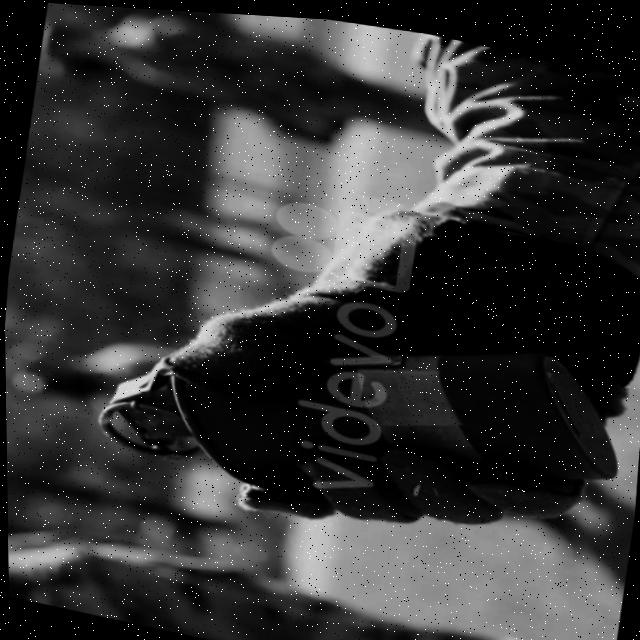grenade: (84, 251, 636, 572)
